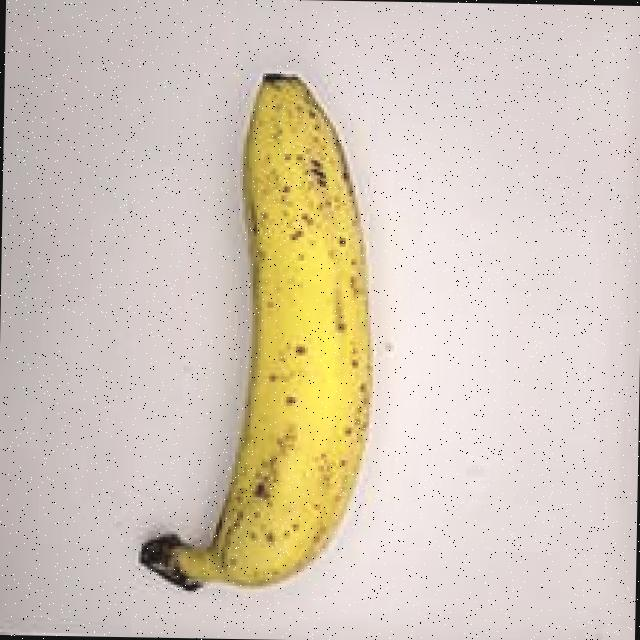Overripe: (103, 30, 406, 630)
